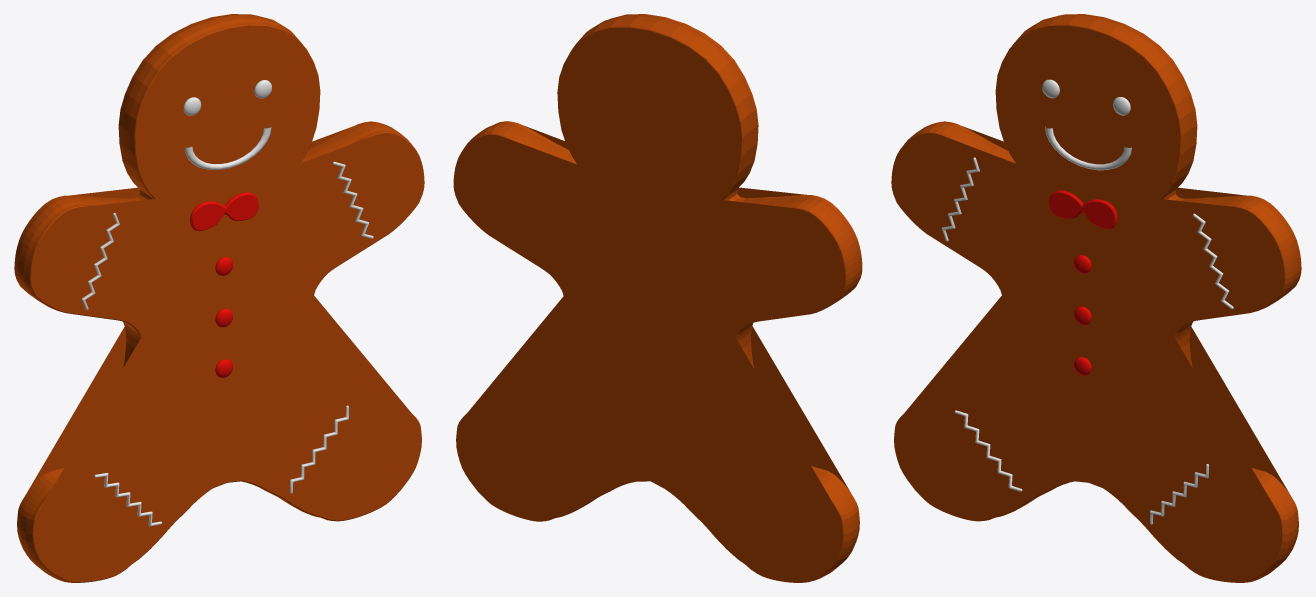
File: クッキー.fbx
The picture shows the model from 3 angles, left to right: view 1: azimuth 30°, elevation 25°; view 2: azimuth 150°, elevation 25°; view 3: azimuth 330°, elevation 25°; orthographic projection.
Visible parts, largest first — view 1: 平面, 平面.001, トーラス.001; view 2: 平面; view 3: 平面, 平面.001, トーラス.001.
Boxes of the visible parts, <box> form: 平面: <box>14,14,424,582</box>; 平面.001: <box>190,192,258,230</box>; トーラス.001: <box>184,126,271,169</box>; 平面: <box>453,14,862,582</box>; 平面: <box>891,14,1301,582</box>; 平面.001: <box>1049,190,1117,228</box>; トーラス.001: <box>1045,126,1131,170</box>.
Size of the model in its own units: 376 by 476 by 32.08.
